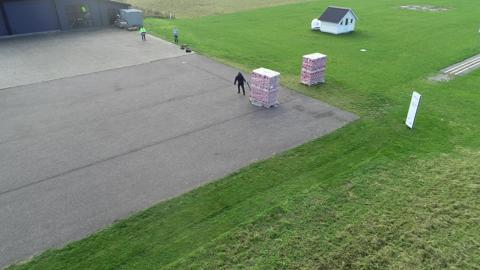RockwoolPallet: (250, 65, 283, 110)
